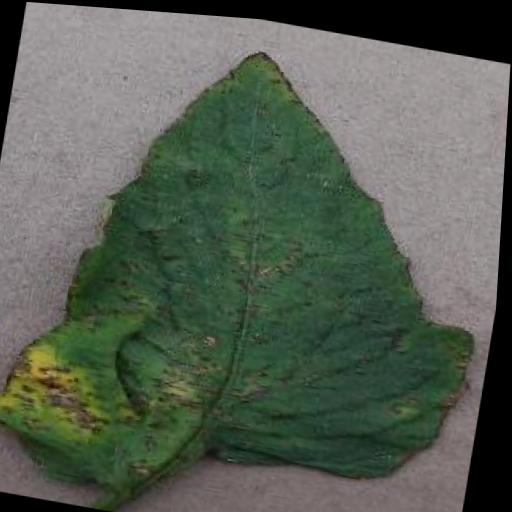Bacterial Spot: (0, 3, 512, 512)
